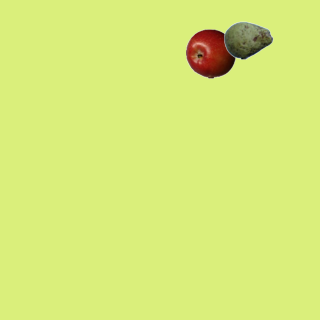Apple Braeburn: (185, 28, 235, 78)
Pear Stone: (223, 15, 273, 65)
